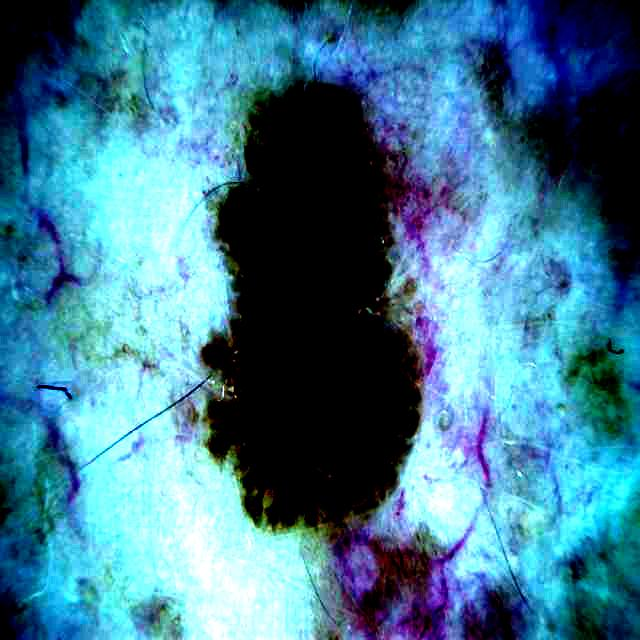BKL: (204, 85, 420, 528)
